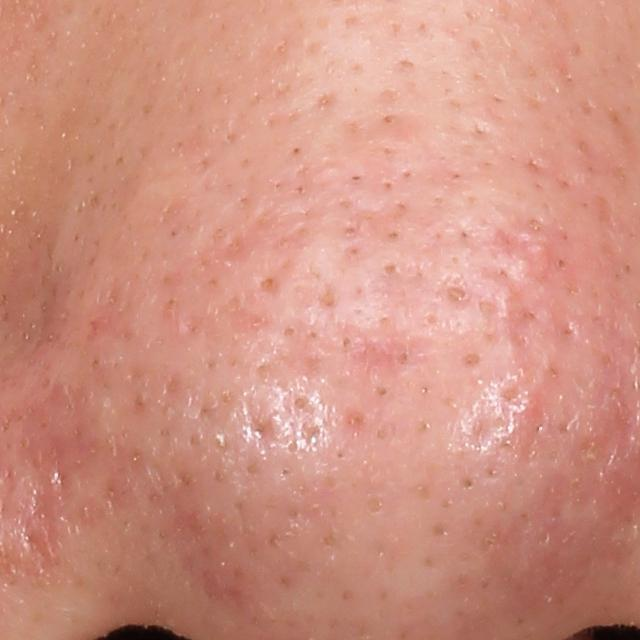comedo: (442, 282, 473, 311), (252, 273, 281, 297), (378, 108, 403, 133)
